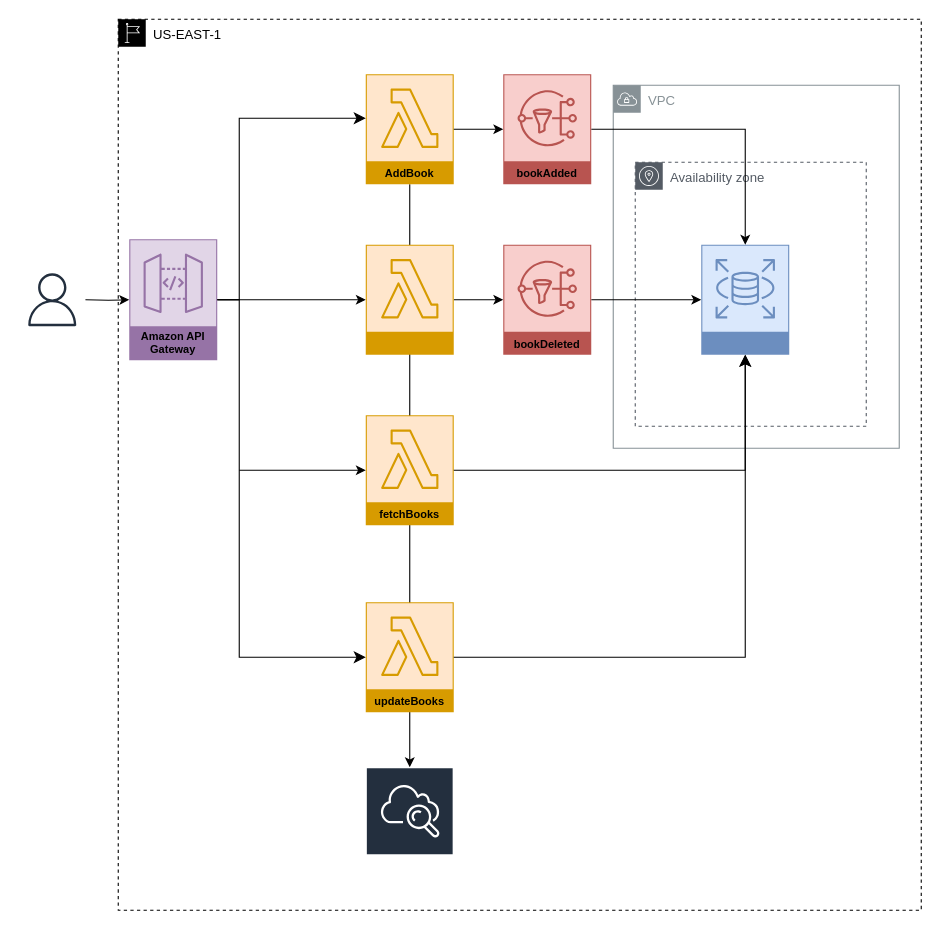
The diagram is 941 pixels wide and 930 high, and some of its shapes have lost their labels. Each missing label, with the centre of its shape:
"Amazon CloudWatch" goes at point 409,827.
"Amazon RDS" goes at point 744,299.
"DeleteBook" goes at point 409,299.
"User" goes at point 51,299.
